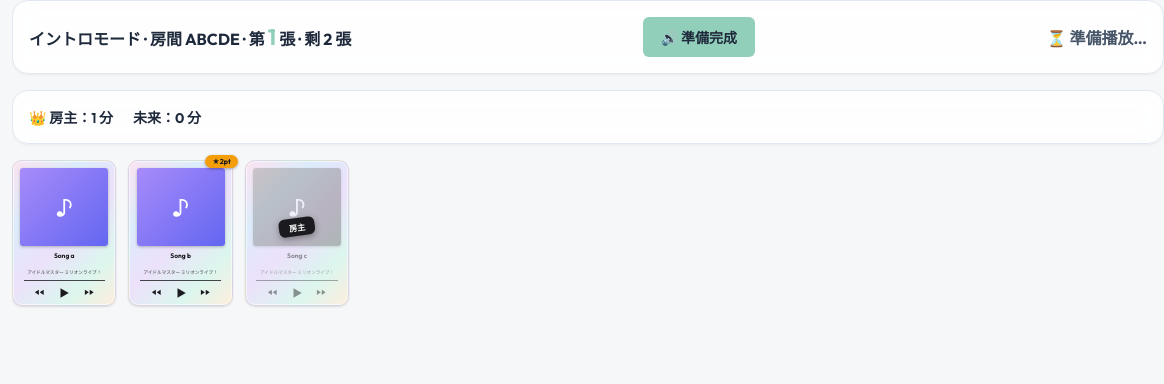
IntroGame › 已被取走的牌灰化並顯示名牌、不能點；慢了一步顯示伺服器訊息
Expected: the button "♪ Song c アイドルマスター ミリオンライブ！ 房主" is disabled, [245,160,349,306]
Expected: the text "房主" is shown, [278,216,316,239]
What coordinates should you click on to do the following:
click the button "♪ Song a アイドルマスター ミリオンライブ！"
I would click on:
 (64, 233)
Its box is [12,160,116,306].
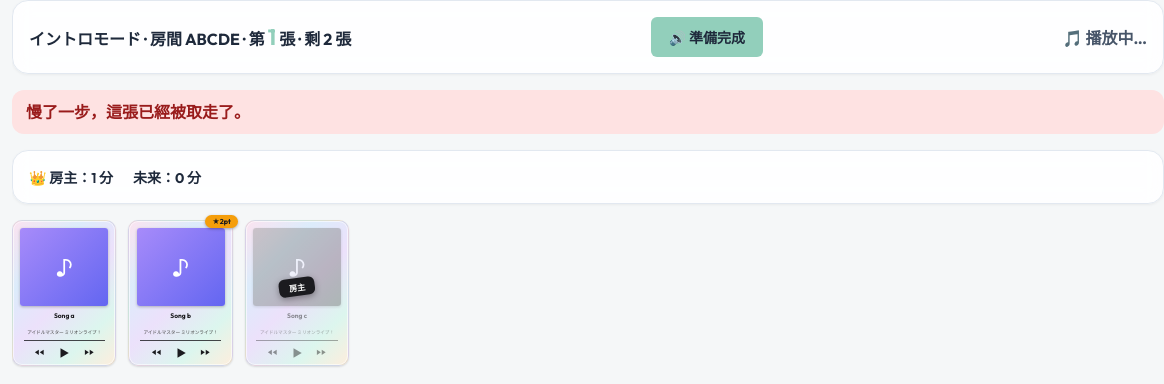
Now the text "慢了一步，這張已經被取走了。" is shown, box [12,90,1163,134]
